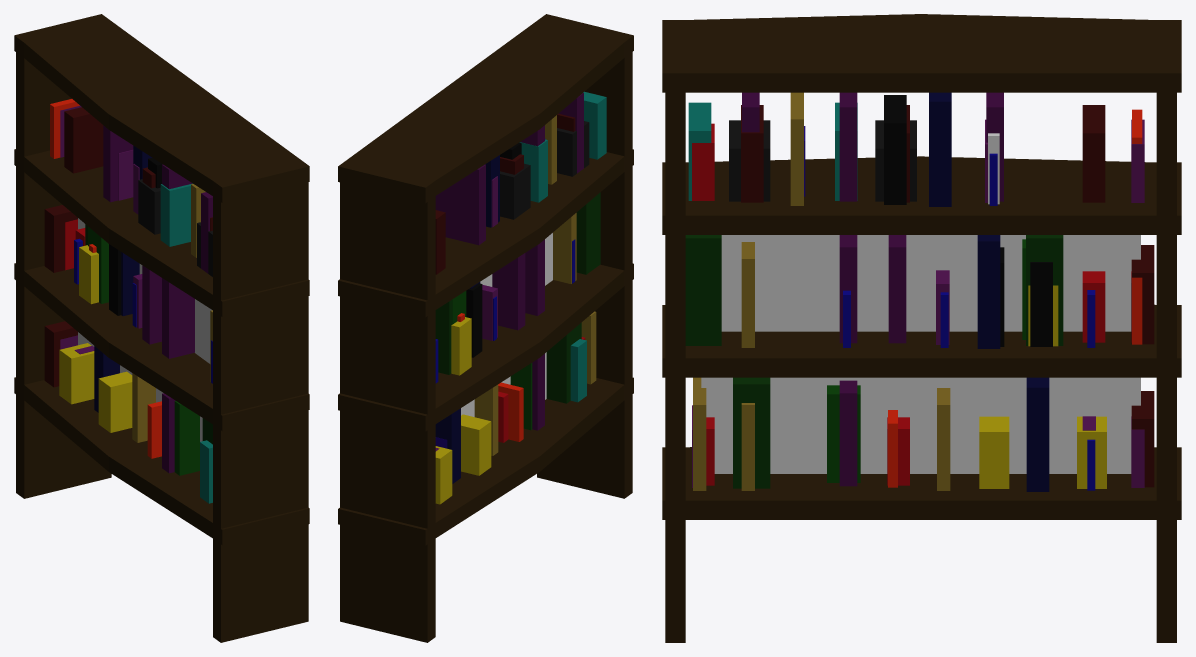
File: Shelf.obj
The picture shows the model from 3 angles, left to right: view 1: azimuth 30°, elevation 25°; view 2: azimuth 150°, elevation 25°; view 3: azimuth 270°, elevation 25°; orthographic projection. The views are drawn at different scales.
Parts seen in each view (by area): view 1: Cube.493_Cube.079, Cube.008_Cube.011, Cube.005_Cube.008, Cube.016_Cube.019, Cube.011_Cube.014, Cube.006_Cube.009, Cube.012_Cube.015, Cube.015_Cube.018, Cube.007_Cube.010, Cube.020_Cube.023, Cube.014_Cube.017, Grid.026 (+3 smaller); view 2: Cube.493_Cube.079, Cube.008_Cube.011, Cube.009_Cube.012, Cube.016_Cube.019, Cube.015_Cube.018, Cube.011_Cube.014, Cube.014_Cube.017, Cube.007_Cube.010, Cube.005_Cube.008, Cube.013_Cube.016, Cube.006_Cube.009, Cube.020_Cube.023 (+4 smaller); view 3: Cube.493_Cube.079, Grid.026, Cube.008_Cube.011, Cube.009_Cube.012, Cube.007_Cube.010, Cube.005_Cube.008, Cube.015_Cube.018, Cube.013_Cube.016, Cube.016_Cube.019, Cube.010_Cube.013, Cube.012_Cube.015, Cube.014_Cube.017 (+4 smaller).
Boxes of the visible parts, bbox=[...] form: Cube.493_Cube.079: bbox=[14, 14, 309, 642]; Cube.008_Cube.011: bbox=[103, 125, 212, 473]; Cube.005_Cube.008: bbox=[44, 107, 212, 387]; Cube.016_Cube.019: bbox=[59, 245, 132, 432]; Cube.011_Cube.014: bbox=[160, 183, 212, 503]; Cube.006_Cube.009: bbox=[88, 226, 199, 475]; Cube.012_Cube.015: bbox=[60, 105, 142, 354]; Cube.015_Cube.018: bbox=[132, 184, 212, 442]; Cube.007_Cube.010: bbox=[94, 145, 152, 412]; Cube.020_Cube.023: bbox=[50, 99, 161, 458]; Cube.014_Cube.017: bbox=[138, 179, 212, 276]; Grid.026: bbox=[78, 218, 212, 441]; Cube.493_Cube.079: bbox=[338, 14, 633, 642]; Cube.008_Cube.011: bbox=[435, 93, 583, 430]; Cube.009_Cube.012: bbox=[435, 192, 600, 403]; Cube.016_Cube.019: bbox=[435, 317, 491, 504]; Cube.015_Cube.018: bbox=[474, 115, 596, 455]; Cube.011_Cube.014: bbox=[519, 91, 606, 402]; Cube.014_Cube.017: bbox=[500, 121, 589, 219]; Cube.007_Cube.010: bbox=[435, 155, 499, 483]; Cube.005_Cube.008: bbox=[435, 113, 575, 274]; Cube.013_Cube.016: bbox=[466, 142, 521, 357]; Cube.006_Cube.009: bbox=[452, 291, 532, 430]; Cube.020_Cube.023: bbox=[457, 313, 523, 441]; Cube.493_Cube.079: bbox=[662, 14, 1181, 642]; Grid.026: bbox=[701, 235, 1140, 473]; Cube.008_Cube.011: bbox=[742, 92, 1003, 486]; Cube.009_Cube.012: bbox=[685, 235, 1063, 488]; Cube.007_Cube.010: bbox=[929, 92, 1049, 491]; Cube.005_Cube.008: bbox=[741, 105, 1154, 487]; Cube.015_Cube.018: bbox=[693, 92, 950, 490]; Cube.013_Cube.016: bbox=[884, 95, 1052, 346]; Cube.016_Cube.019: bbox=[979, 285, 1106, 488]; Cube.010_Cube.013: bbox=[692, 123, 1131, 485]; Cube.012_Cube.015: bbox=[692, 119, 1144, 487]; Cube.014_Cube.017: bbox=[729, 120, 916, 201].
Bounding box in the file's own units: 2.23 × 9.96 × 8.23.
